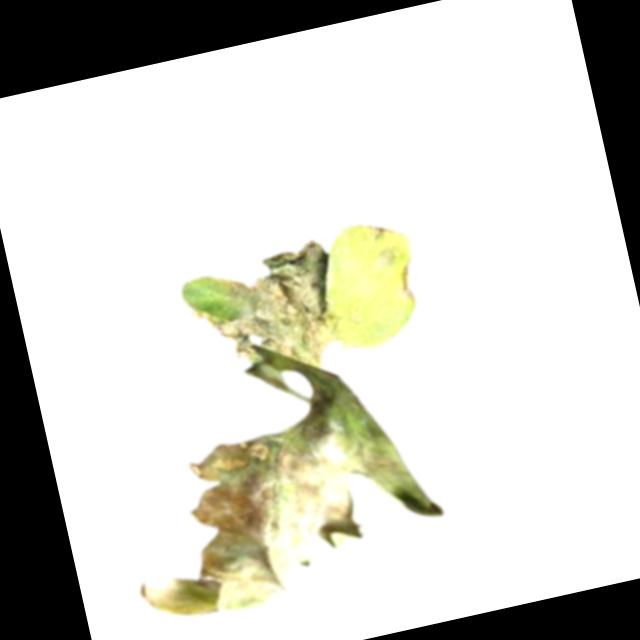Late_blight: (102, 356, 455, 633), (186, 236, 354, 393), (392, 264, 419, 309), (366, 246, 399, 275)
